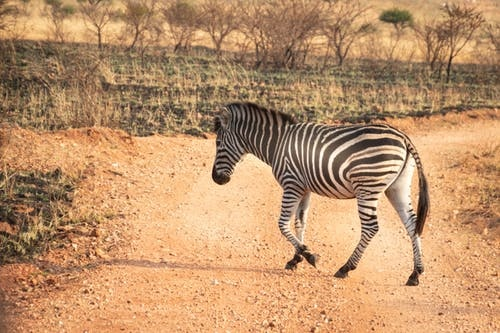zebra: (210, 100, 425, 287)
